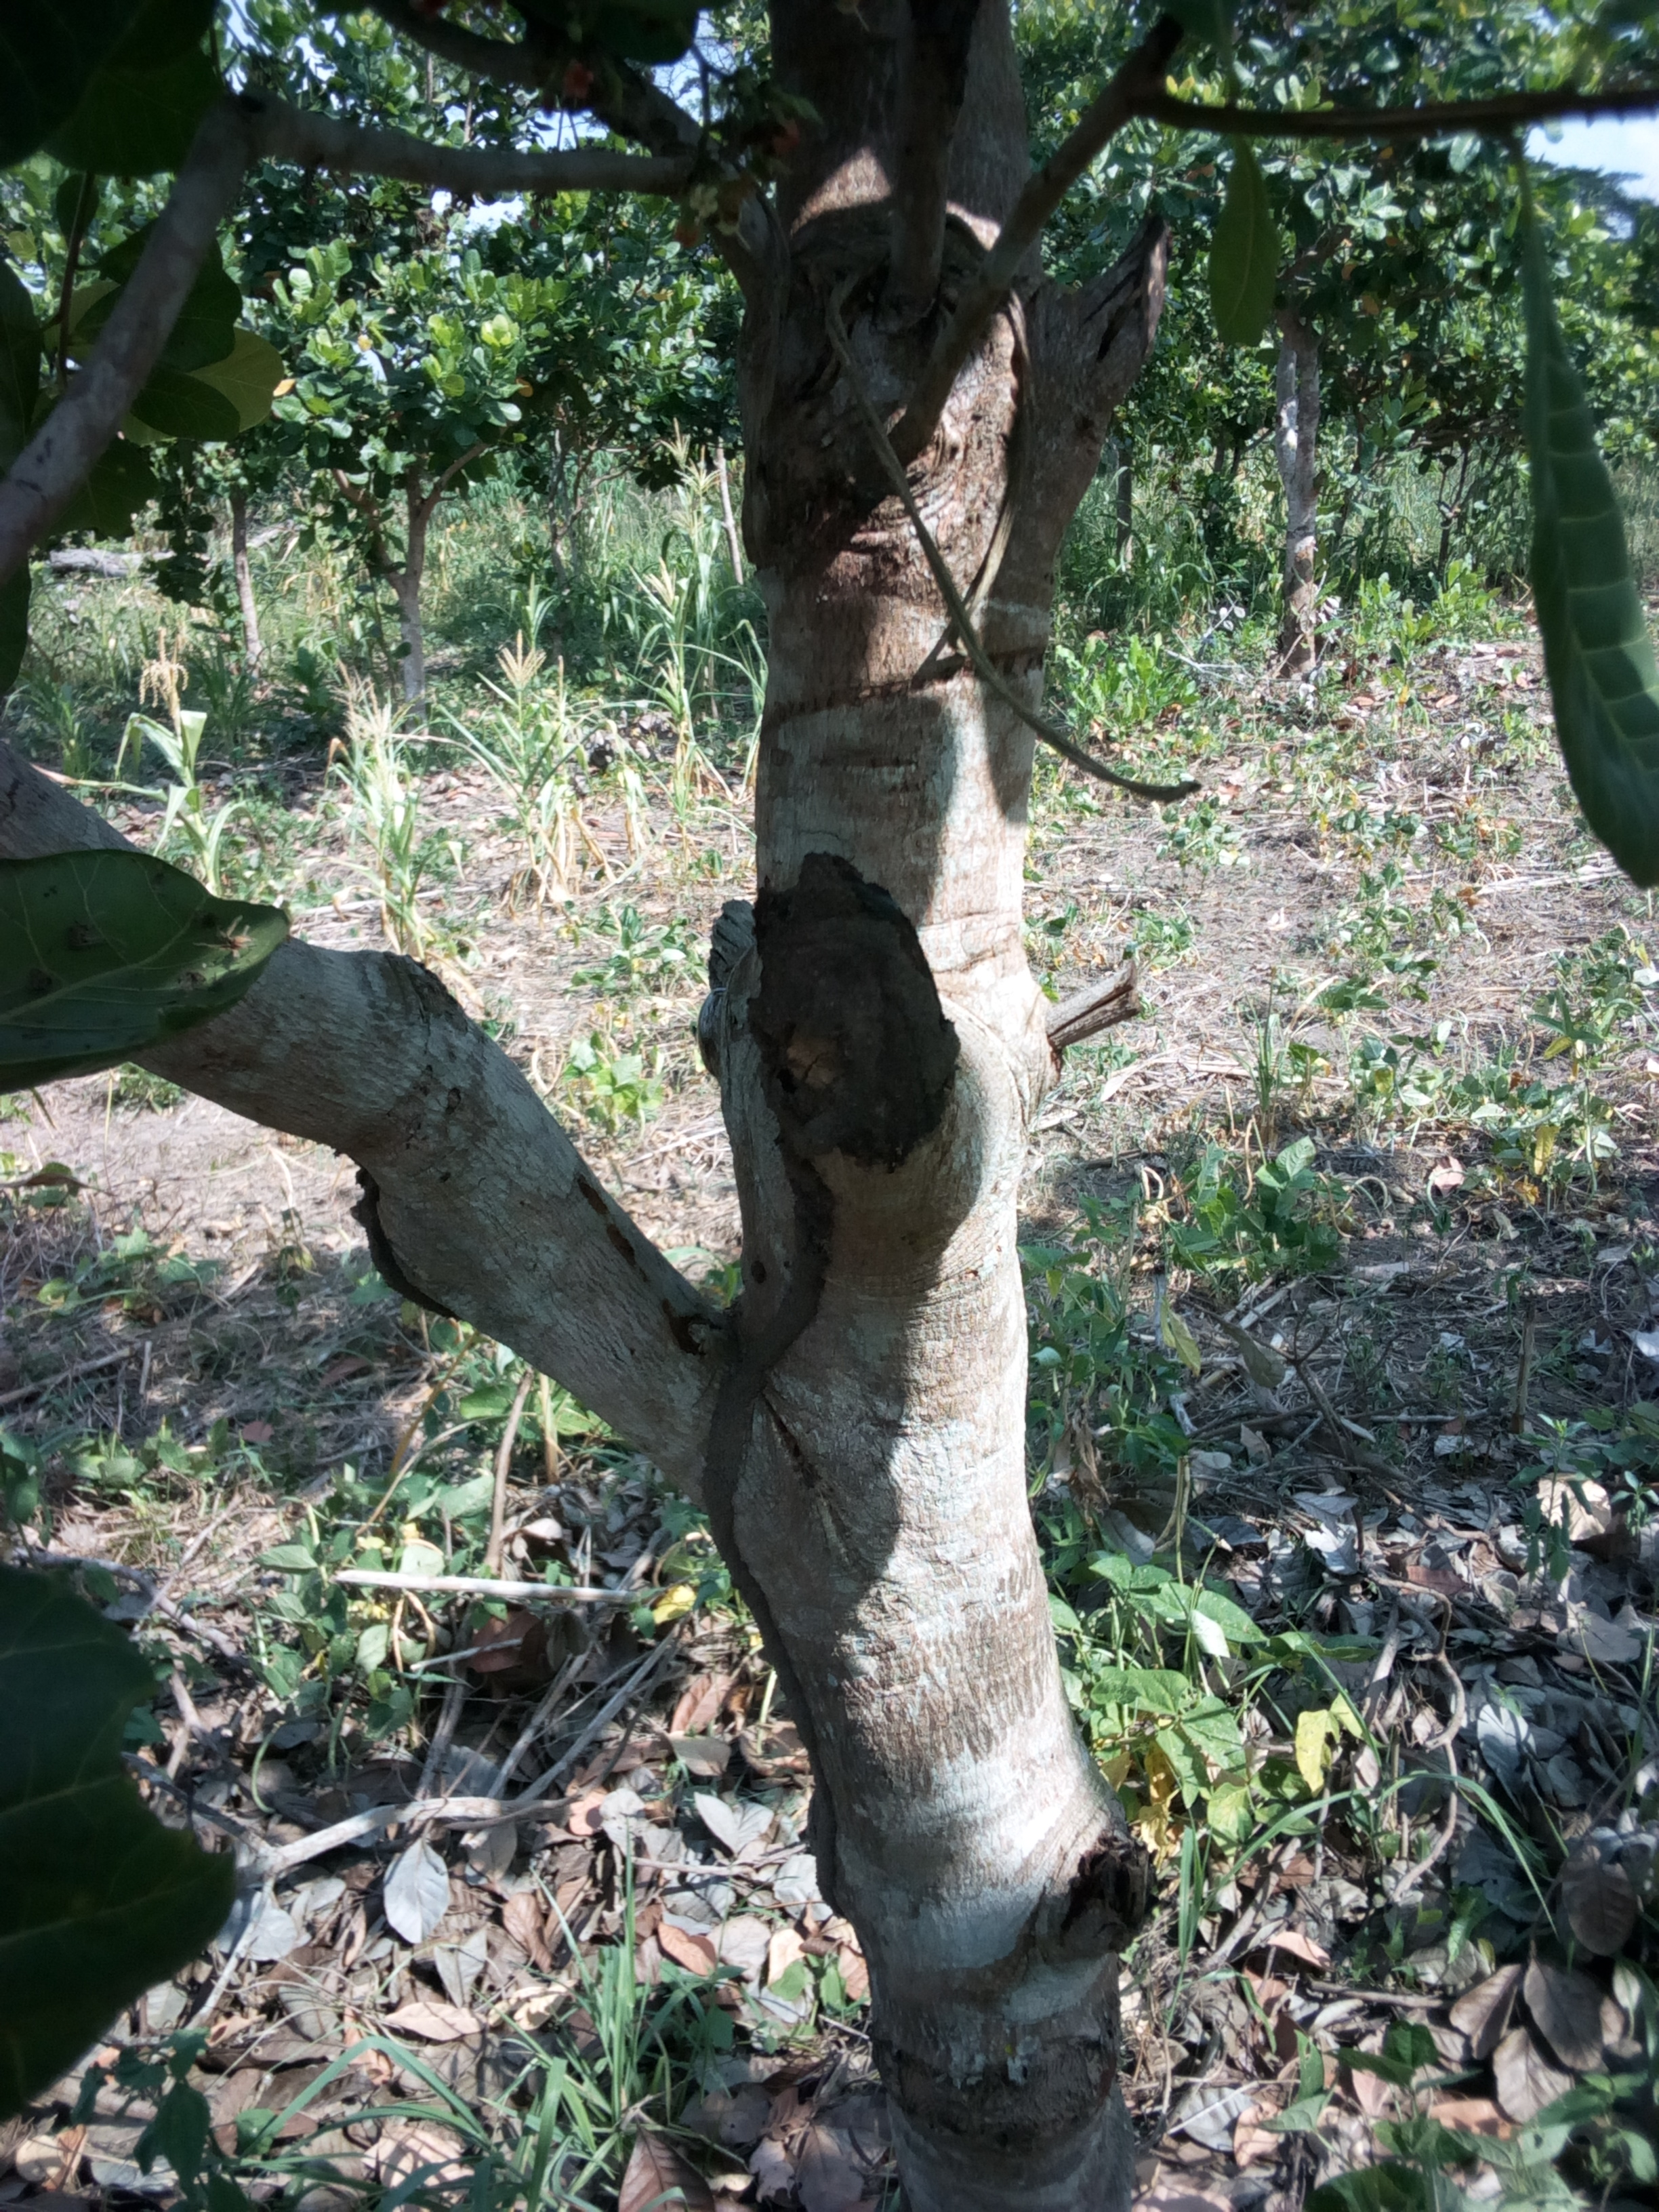Termites: (701, 1167, 861, 1587)
